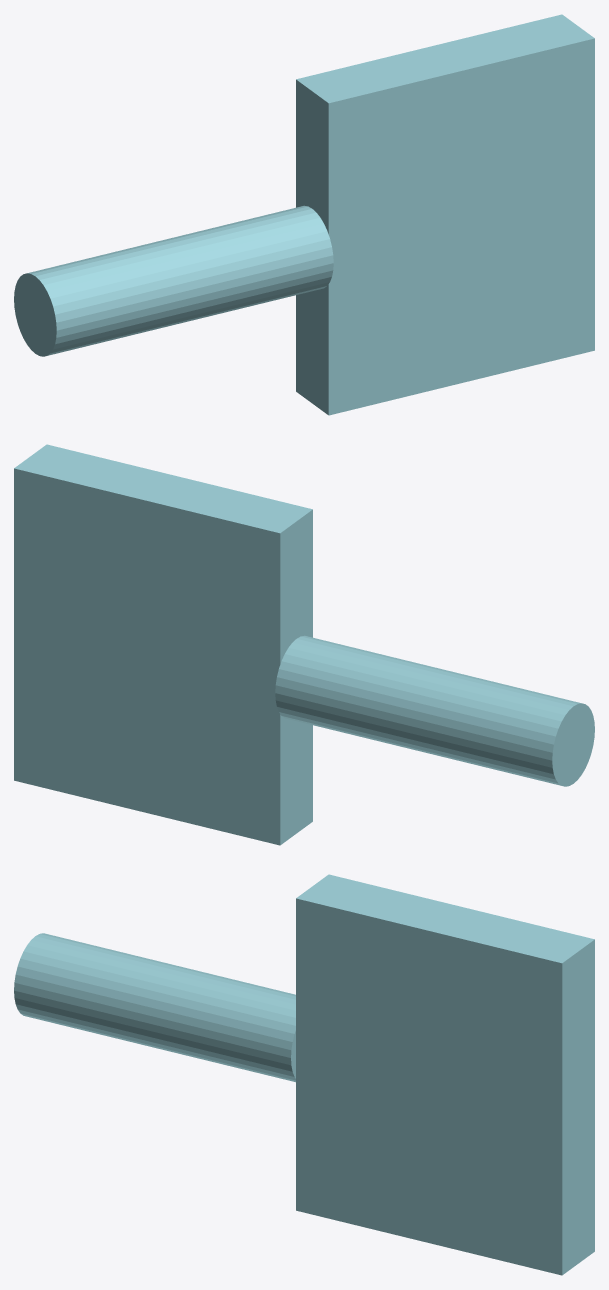
File: cylinder_brush_v11009.obj
The picture shows the model from 3 angles, top to bottom: view 1: azimuth 30°, elevation 25°; view 2: azimuth 150°, elevation 25°; view 3: azimuth 330°, elevation 25°; orthographic projection.
Size of the model in its own units: 0.1989 by 0.1092 by 0.0271.
Materials: 1 (1 with a texture image).
